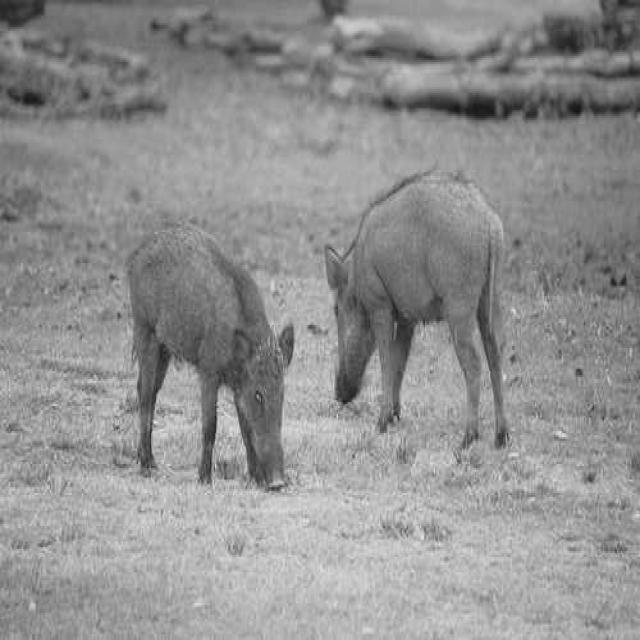boar: (324, 172, 506, 443), (127, 218, 292, 485)
